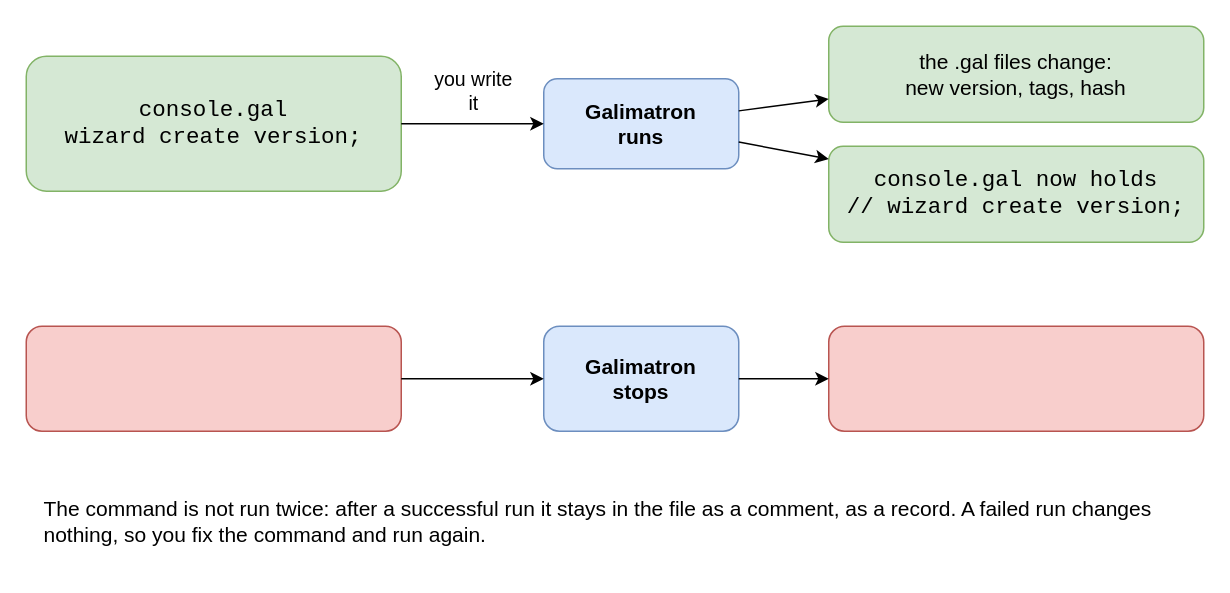
Image size: 1230x593. Some labels were removed from this diagram. Each missing label, with the centre of its shape:
a command is wrong or a check fails: point (213, 378)
no .gal file is touched summary says "fail": point (1015, 378)
